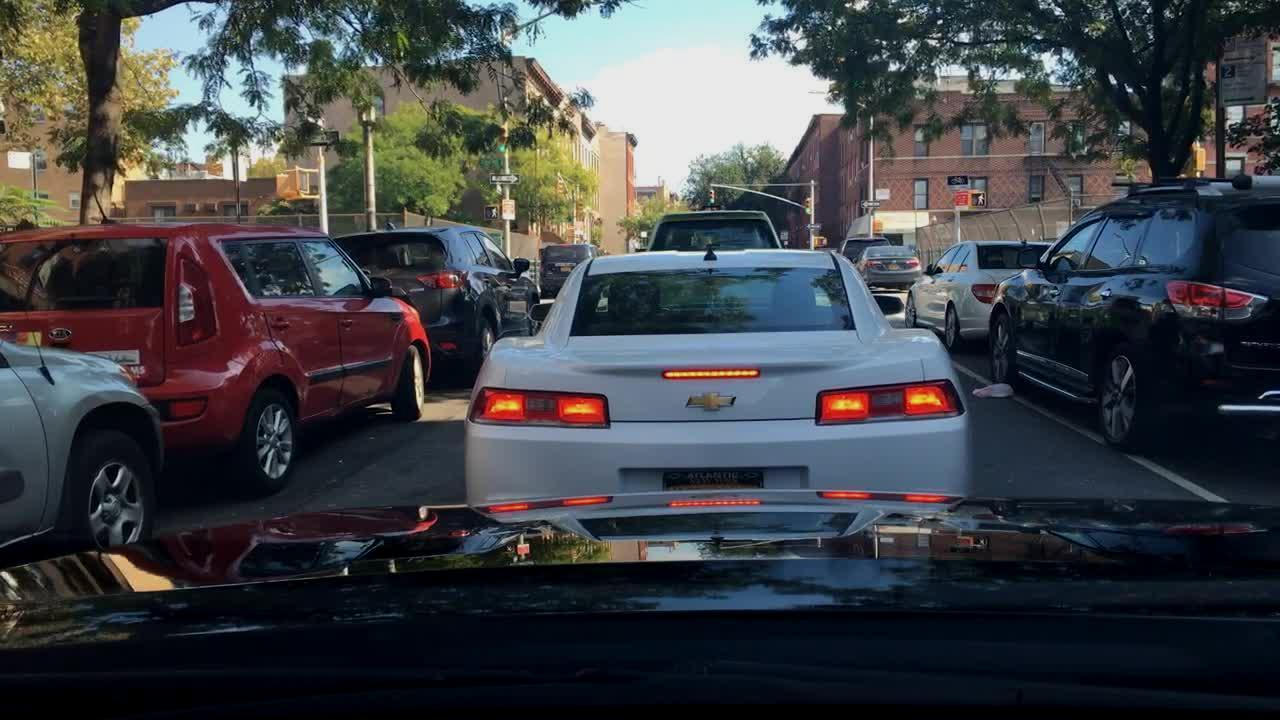chevrolet: (684, 386, 744, 424)
kia: (44, 323, 75, 344)
